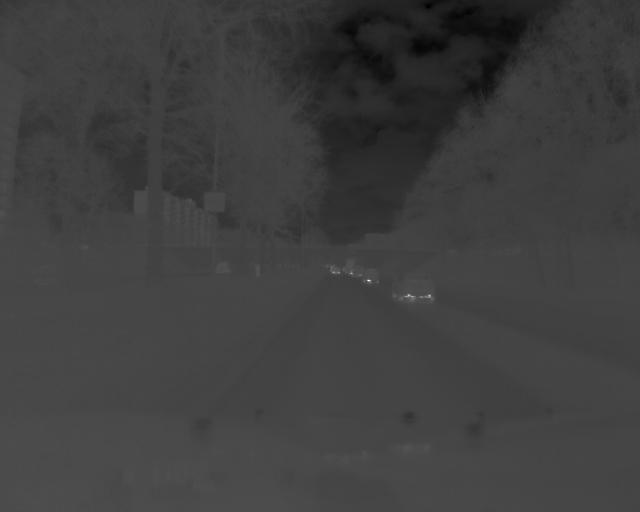car: (390, 271, 436, 302), (359, 269, 380, 287)
